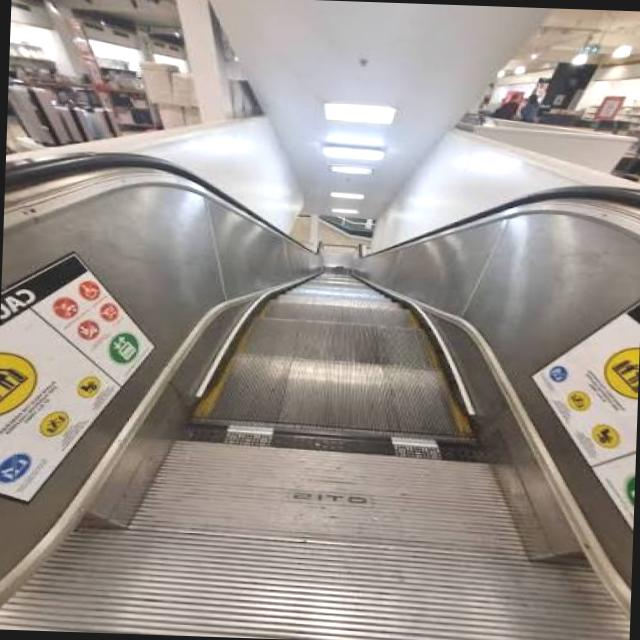escalator: (0, 140, 640, 640)
